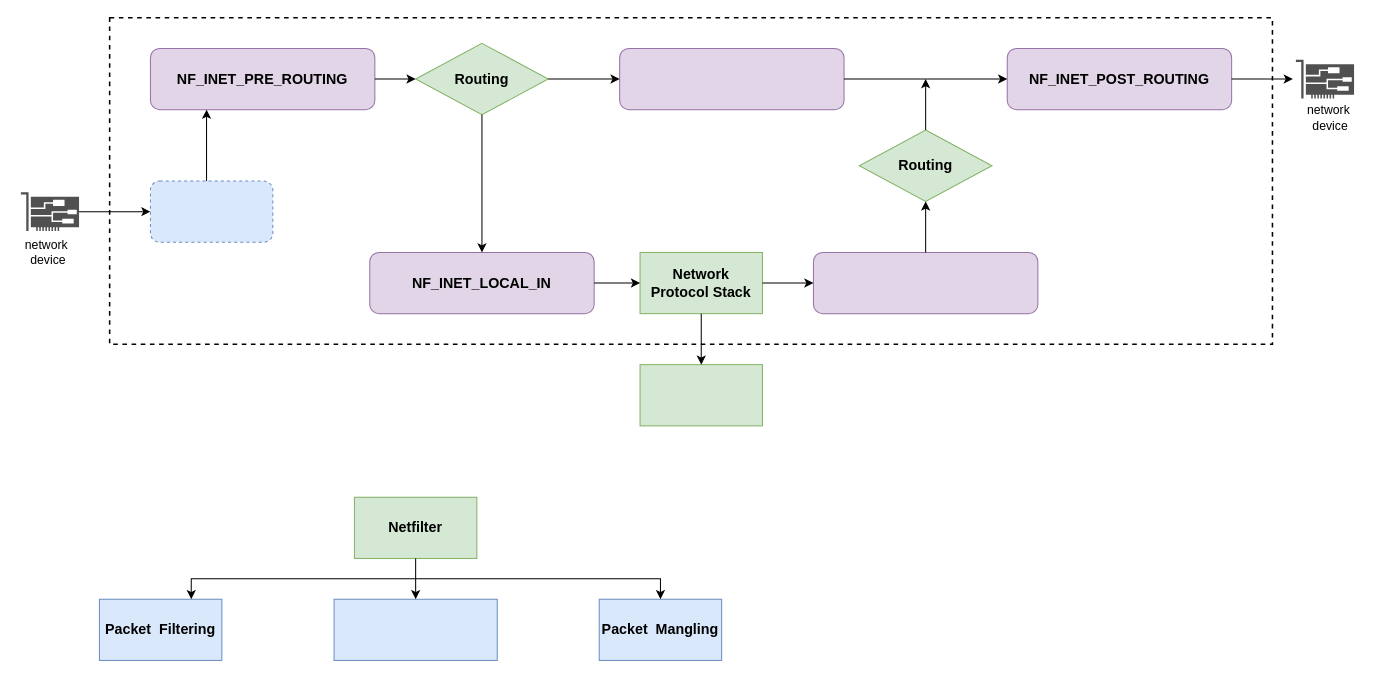
Some shapes in this 1378 by 679 pixel diagram are drawn without their labels. The box of each missing label's shape, as (x1, y1, x2, y2) in pixels:
eBPF program: (149, 180, 273, 242)
NAT (Network Address Translation): (333, 598, 497, 660)
NF_INET_FORWARD: (619, 47, 844, 110)
NF_INET_LOCAL_OUT: (812, 251, 1038, 314)
User space application: (639, 364, 762, 426)
